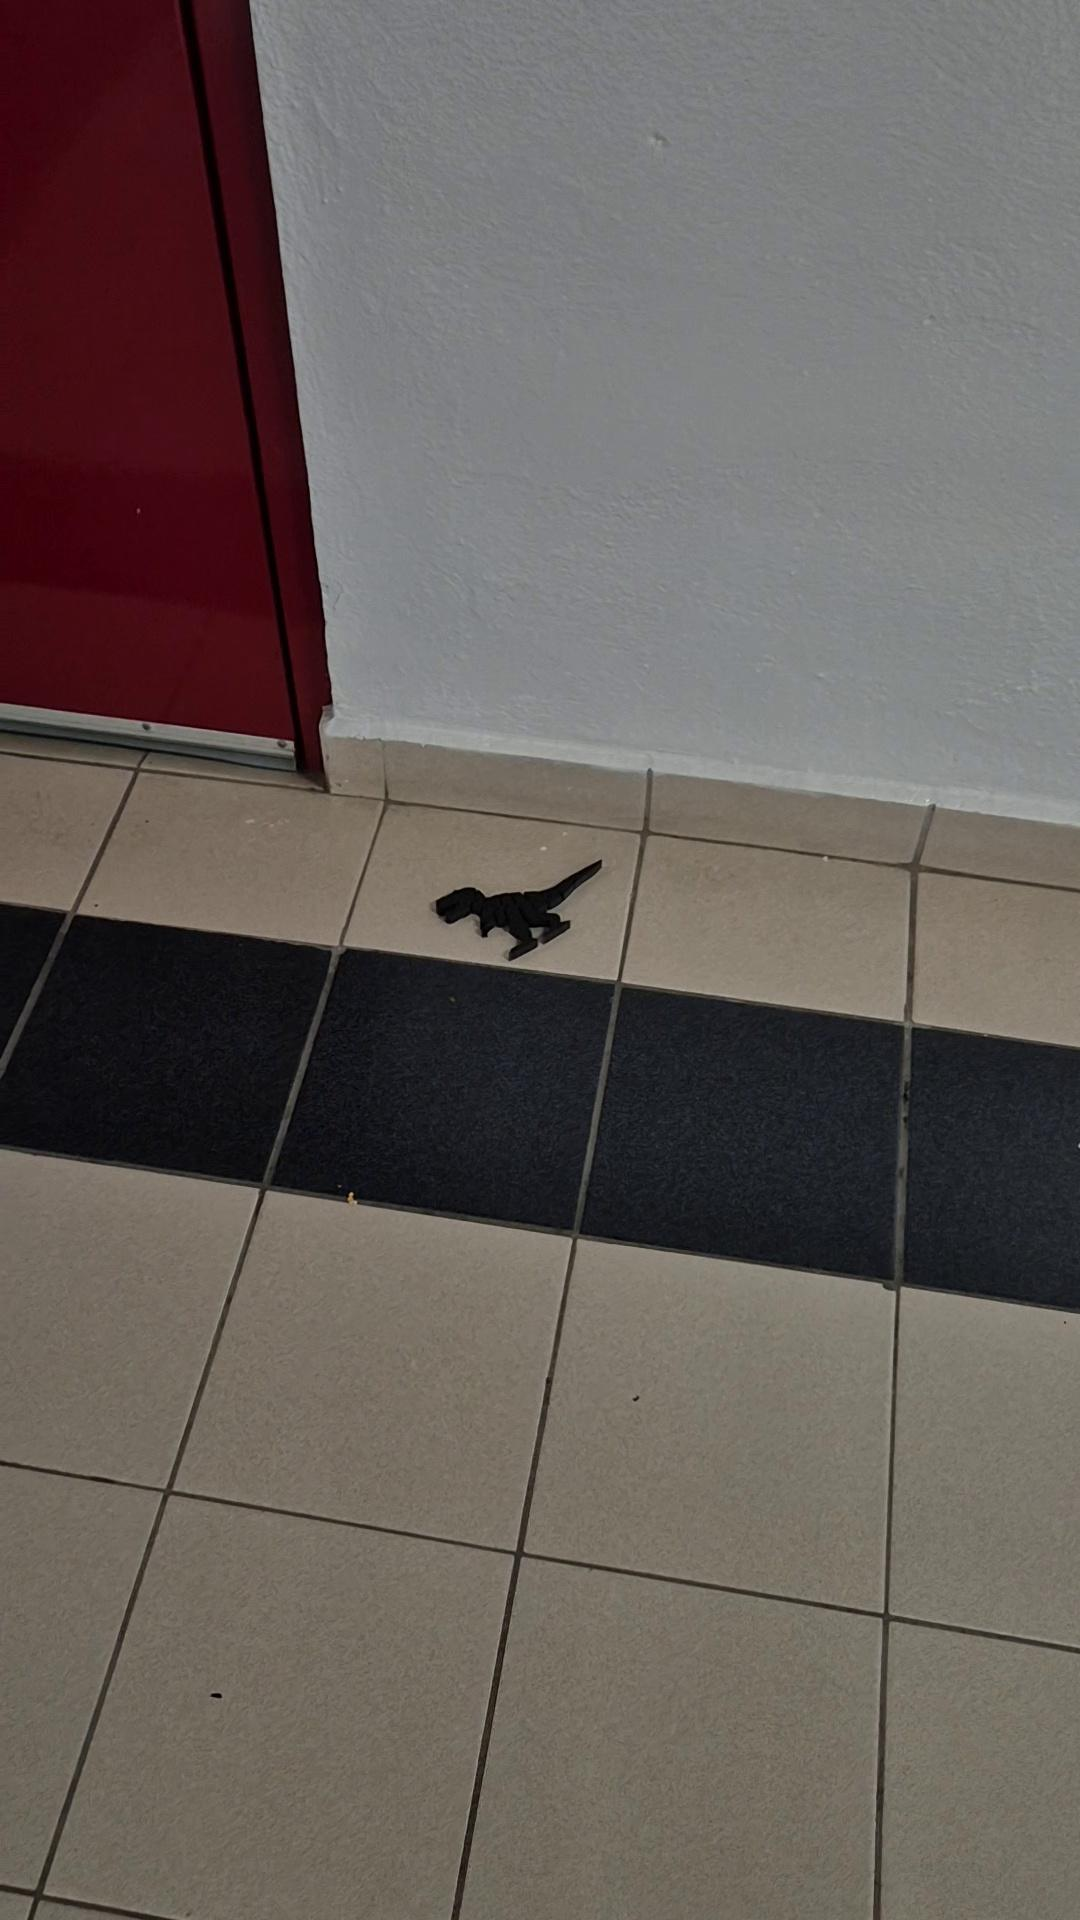dinosaur: (434, 858, 604, 963)
